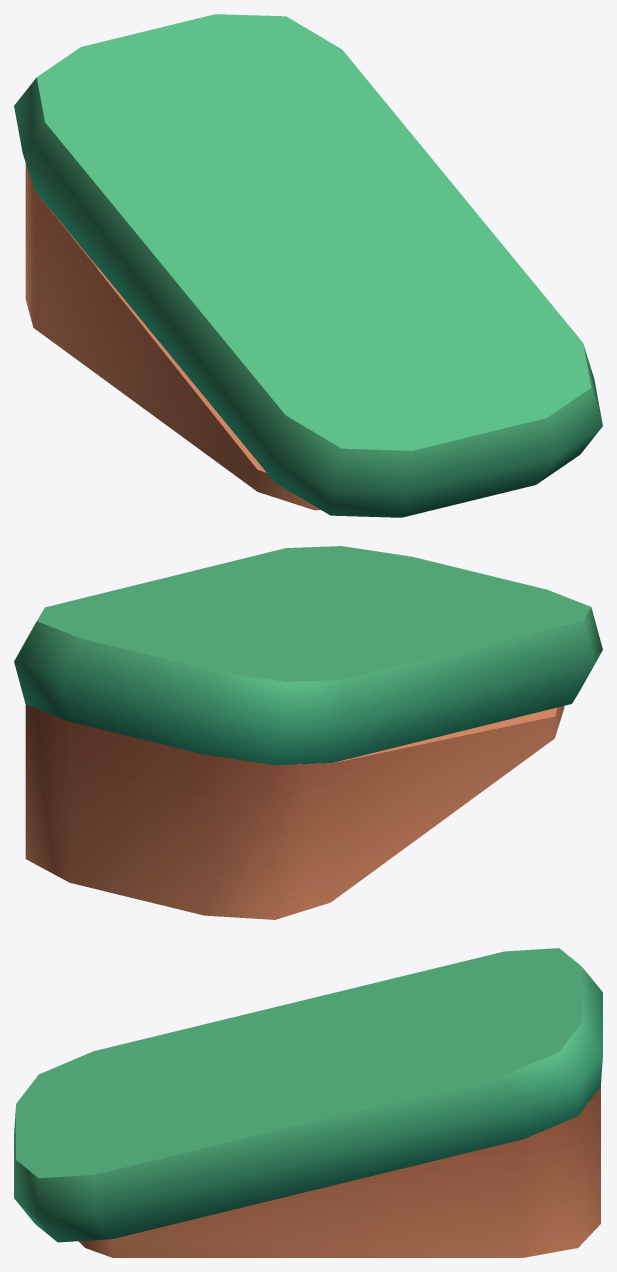
The model's file is block-grass-large-slope-narrow.glb.
3 views of the same model, one above another, from view 1: azimuth 30°, elevation 25°; view 2: azimuth 150°, elevation 25°; view 3: azimuth 270°, elevation 25° (orthographic). The views are drawn at different scales.
Parts seen in each view (by area): view 1: block-grass-large-slope-narrow; view 2: block-grass-large-slope-narrow; view 3: block-grass-large-slope-narrow.
Boxes of the visible parts, x1,y1,x2,y2 form: block-grass-large-slope-narrow: [14, 14, 602, 517]; block-grass-large-slope-narrow: [14, 546, 602, 919]; block-grass-large-slope-narrow: [14, 948, 602, 1257].
Bounding box in the file's own units: 1.08 × 0.7591 × 2.01.
Materials: 1 (1 with a texture image).
